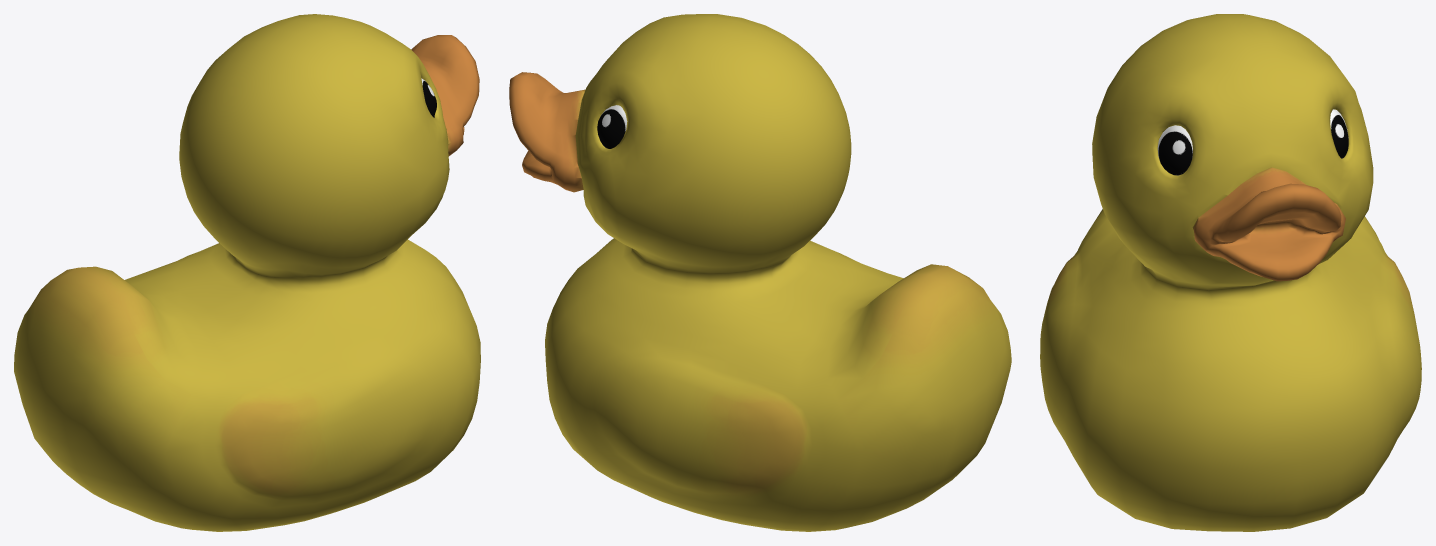
Rendered from demo.gltf.
The picture shows the model from 3 angles, left to right: view 1: azimuth 30°, elevation 25°; view 2: azimuth 150°, elevation 25°; view 3: azimuth 270°, elevation 25°; orthographic projection. The views are drawn at different scales.
Visible parts, largest first — view 1: LOD3spShape; view 2: LOD3spShape; view 3: LOD3spShape.
Boxes of the visible parts, x1=… form: LOD3spShape: x1=14, y1=14, x2=480, y2=531; LOD3spShape: x1=509, y1=14, x2=1011, y2=531; LOD3spShape: x1=1040, y1=14, x2=1421, y2=531.
Bounding box in the file's own units: 1.65 × 1.54 × 1.15.
Materials: 1 (1 with a texture image).
